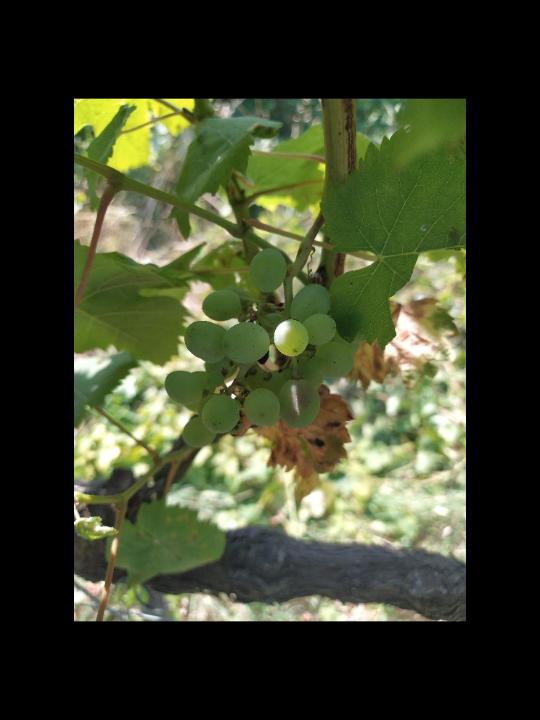grape: (163, 247, 362, 451)
